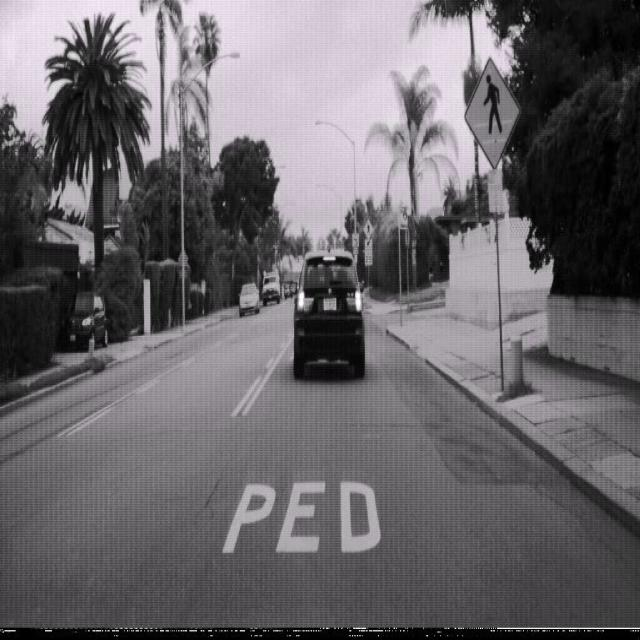pedestrianCrossing: (464, 56, 520, 170)
